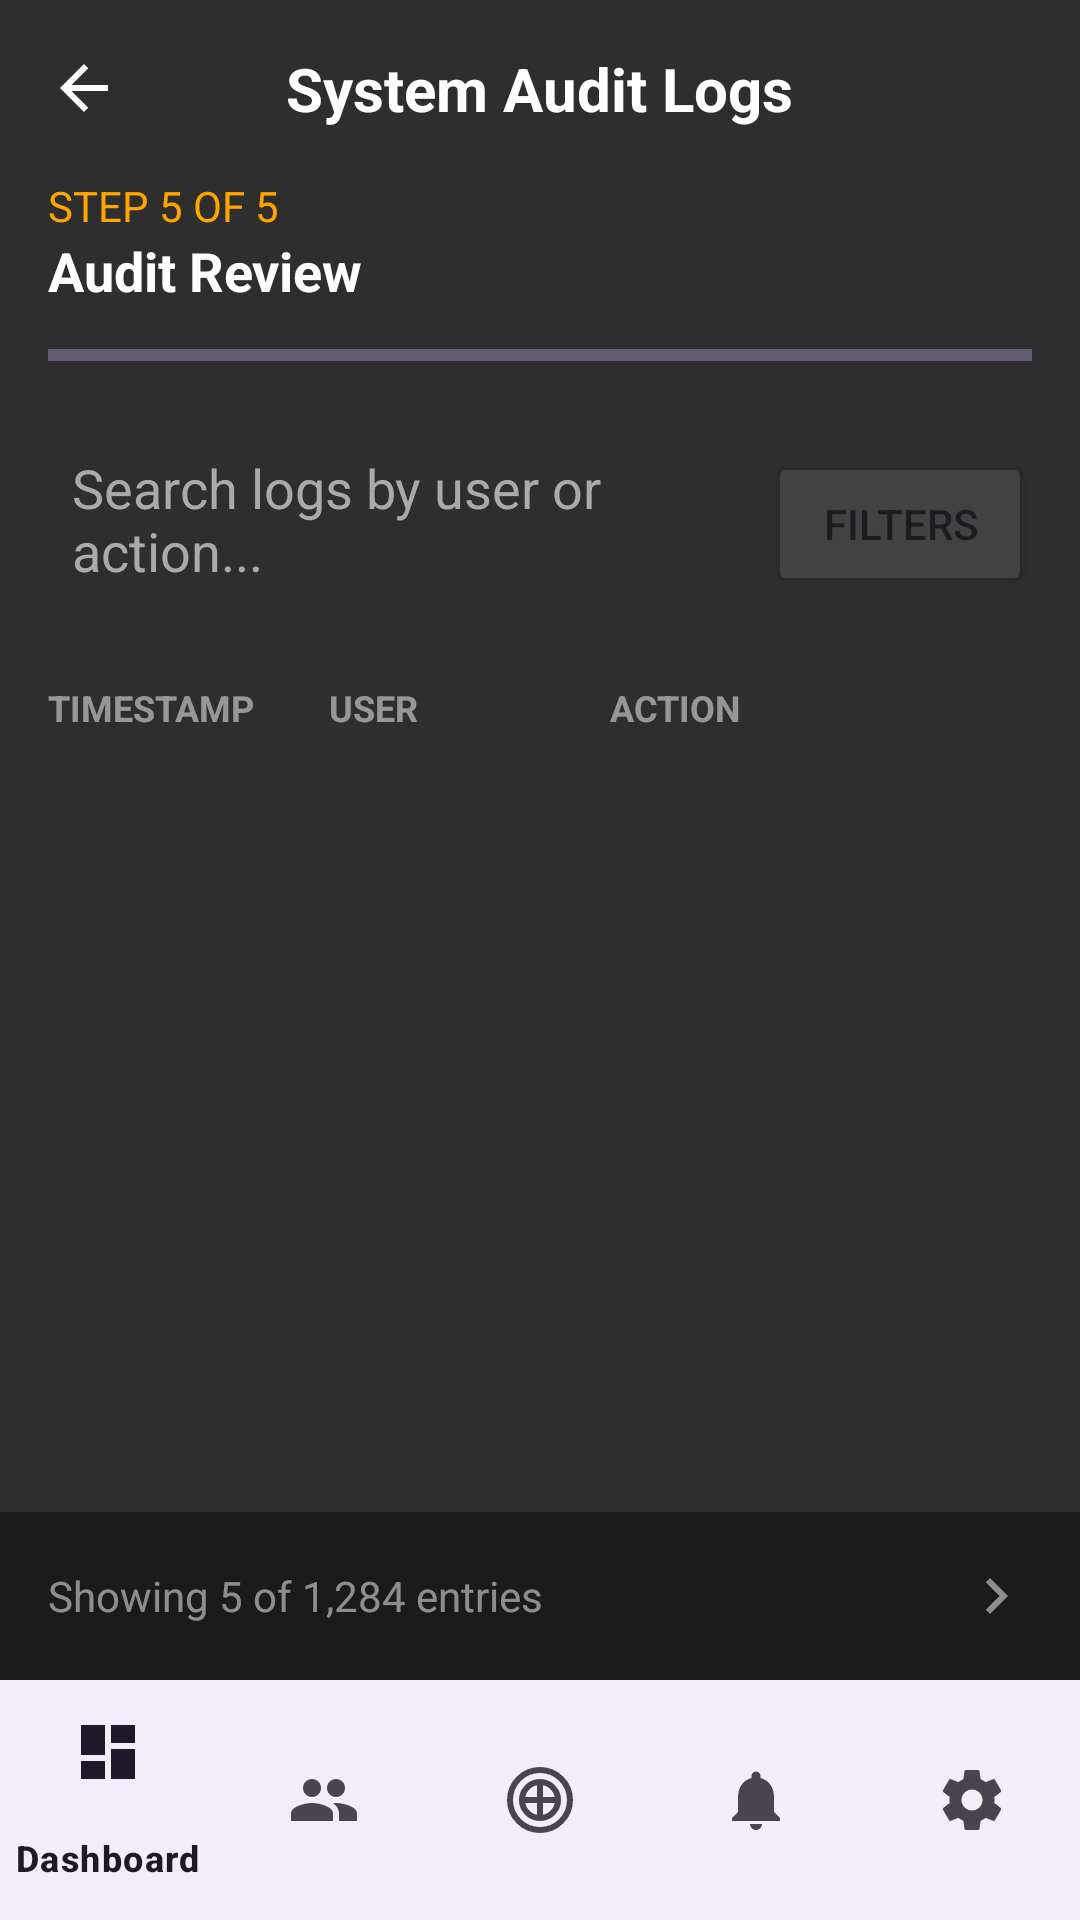

Named icons in this screenshot (1080 × 1920) and their centers, [x,y]:
arrow back: [84,88]
chevron right: [997,1596]
